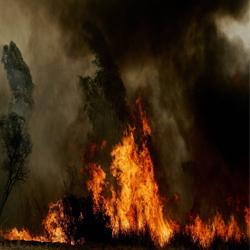fire: (112, 148, 157, 231), (192, 222, 241, 242)
